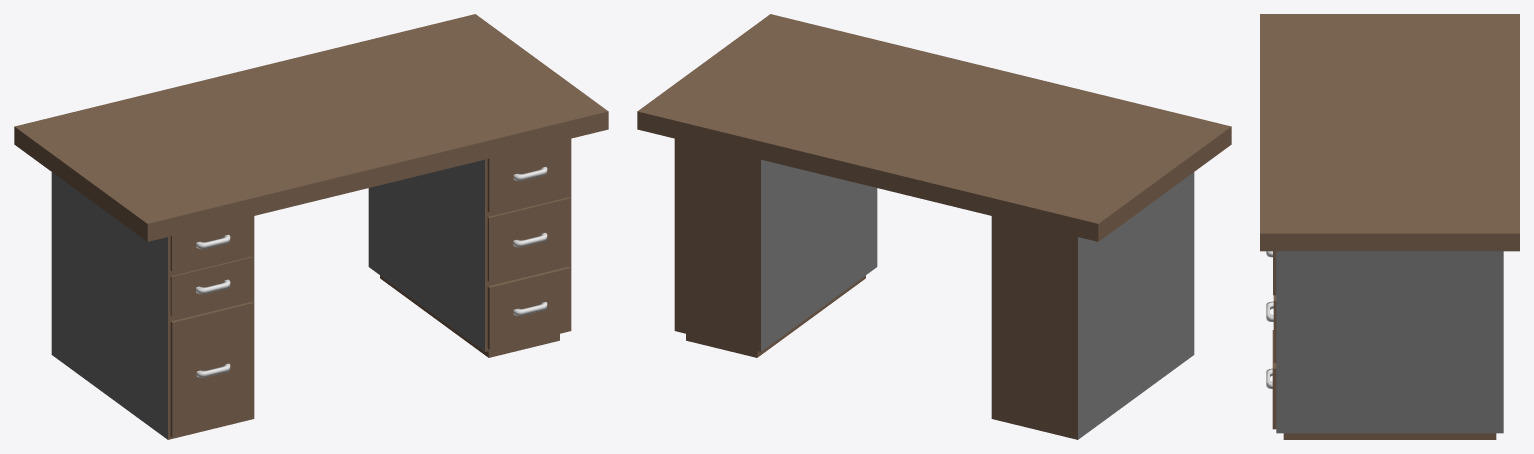
Rendered from SM_Desk_01.fbx.
3 renders of one model, left to right at view 1: azimuth 30°, elevation 25°; view 2: azimuth 150°, elevation 25°; view 3: azimuth 270°, elevation 25°, orthographic. The views are drawn at different scales.
Parts seen in each view (by area): view 1: SM_Desk_01; view 2: SM_Desk_01; view 3: SM_Desk_01.
Boxes of the visible parts, box(x1,y1,x2,y2) form: SM_Desk_01: box(14, 14, 608, 439); SM_Desk_01: box(637, 14, 1231, 439); SM_Desk_01: box(1260, 14, 1519, 439).
Bounding box in the file's own units: 160 × 76 × 80.
